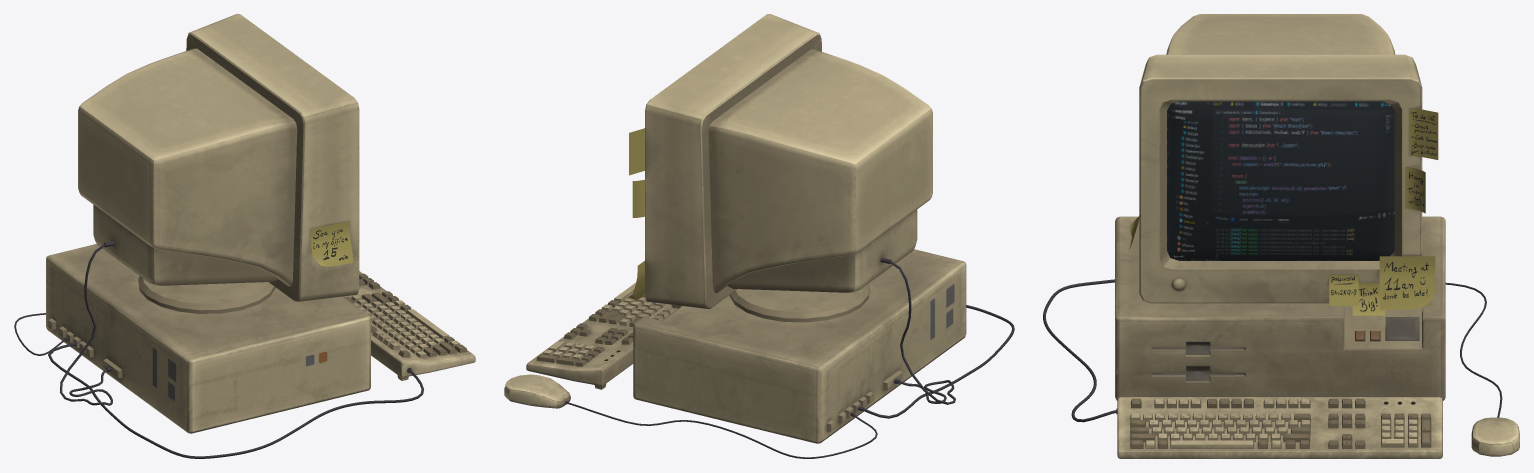
3 renders of one model, left to right at view 1: azimuth 30°, elevation 25°; view 2: azimuth 150°, elevation 25°; view 3: azimuth 270°, elevation 25°, orthographic. The views are drawn at different scales.
Parts seen in each view (by area): view 1: Monitor, Case, Monitor1, Monitor2, Cable, KeyBoard, Papers; view 2: Monitor, Case, Monitor1, Monitor2, KeyBoard, Cable, Mouse, Papers; view 3: Monitor, Case, KeyBoard, Papers, Mouse, Cable, polySurface64.
Boxes of the visible parts, box(x1,y1,x2,y2) form: Monitor: box(78, 14, 359, 301); Case: box(46, 244, 370, 433); Monitor1: box(93, 204, 278, 285); Monitor2: box(138, 276, 275, 313); Cable: box(14, 241, 423, 458); KeyBoard: box(343, 271, 475, 377); Papers: box(310, 221, 353, 266); Monitor: box(645, 14, 932, 308); Case: box(633, 249, 966, 443); Monitor1: box(727, 209, 917, 292); Monitor2: box(729, 283, 869, 322); KeyBoard: box(526, 303, 677, 385); Cable: box(565, 258, 1014, 458); Mouse: box(504, 374, 570, 408); Papers: box(628, 128, 644, 299); Monitor: box(1139, 14, 1422, 303); Case: box(1115, 216, 1445, 400); KeyBoard: box(1117, 397, 1442, 458); Papers: box(1129, 108, 1438, 315); Mouse: box(1471, 417, 1519, 456); Cable: box(1043, 279, 1502, 422); polySurface64: box(1170, 440, 1254, 448).
Bounding box in the file's own units: 0.1031 × 0.0812 × 0.1079.
7 materials, 7 textured.
